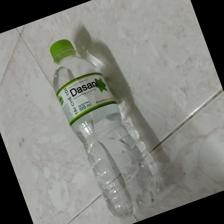Dasani: (47, 38, 161, 218)
